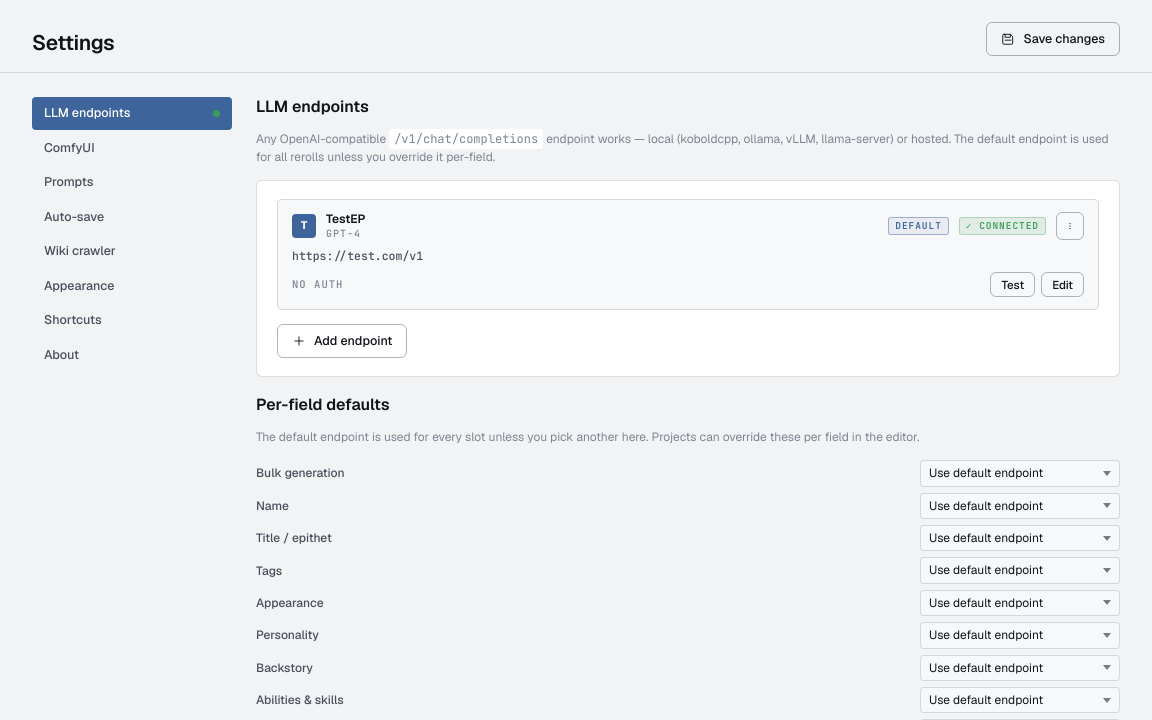
Test: SettingsScreen › renders context size presets in flyout
Click the button "Edit". click: (1063,285)
box: [1041,272,1084,297]
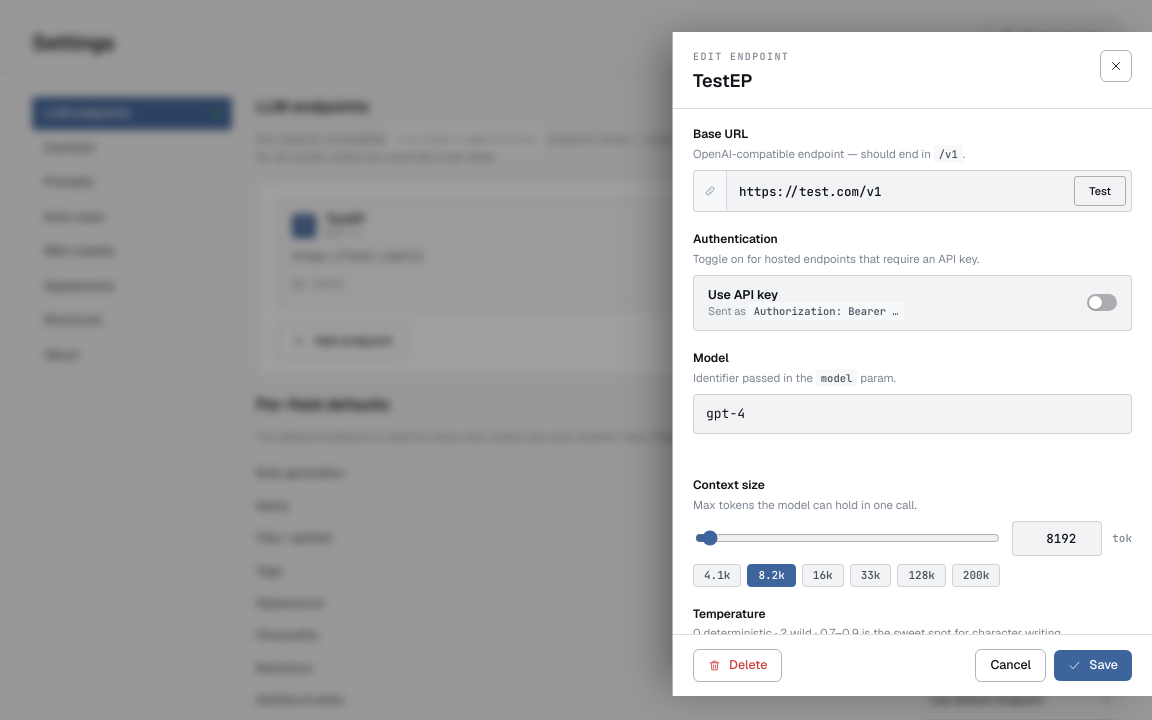
Expected: the text "Edit endpoint" is shown, [693,50,789,63]
Expected: the button "4.1k" is shown, [693,564,741,587]
Expected: the button "8.2k" is shown, [747,564,796,587]
